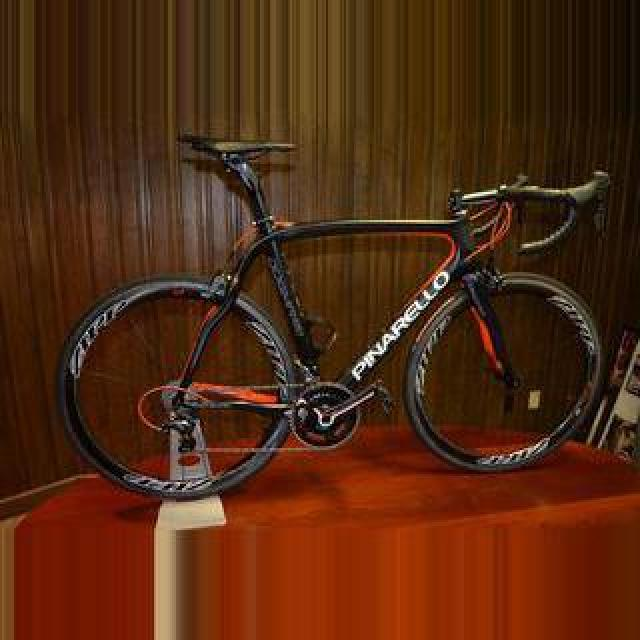Person: (37, 126, 625, 508)
